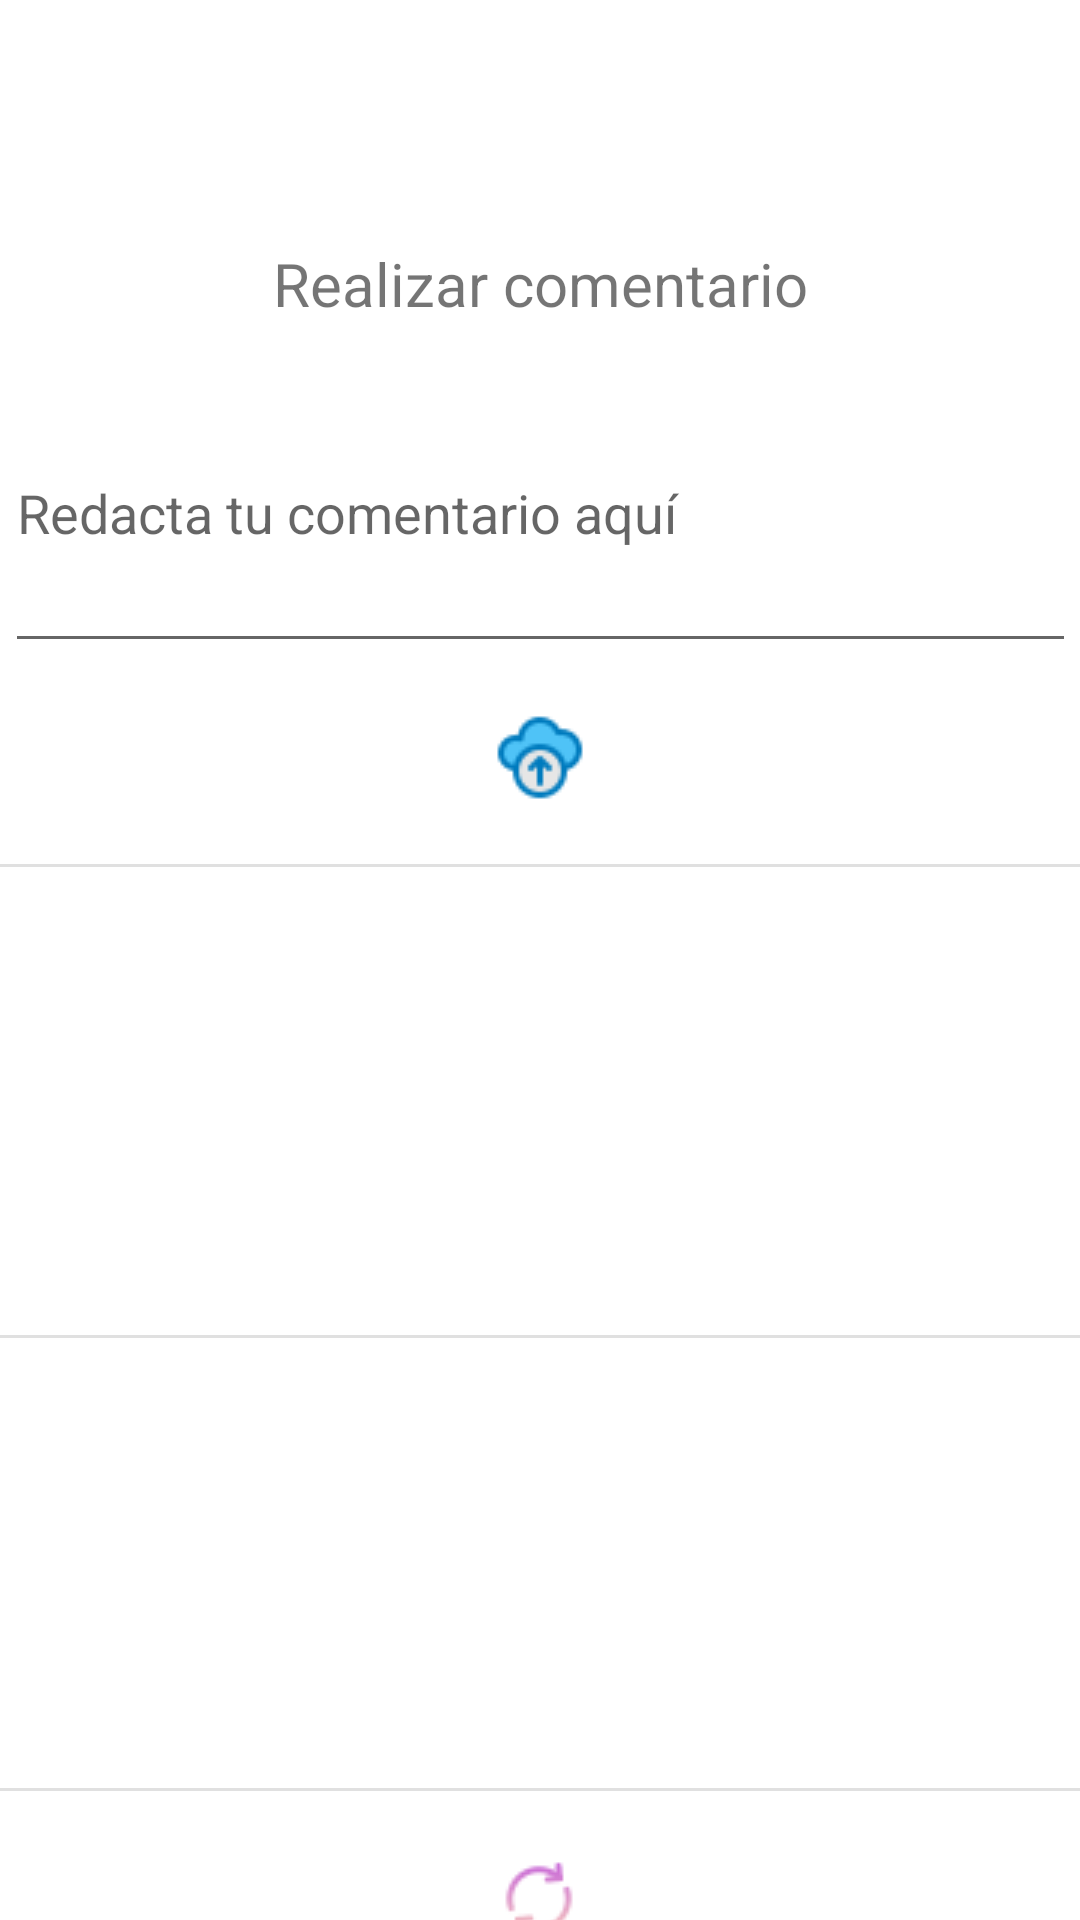

Screen size 1080w x 1920h. Icon name, then its center in pixels as (x,y):
send: (540,757)
